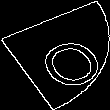O_NW: (13, 22, 97, 88)
